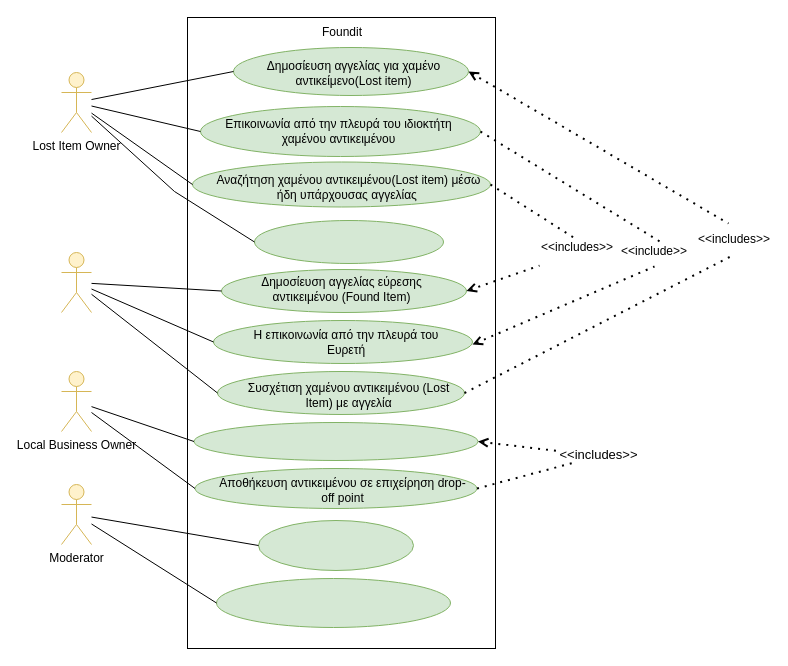
Image size: 788x666. Some labels were removed from this diagram. The shapes that lost their labels are listed below. From the top down, each one's box as (x1, y1, x2, y2) in pixels, then its label:
(254, 220, 444, 264): Αξιολόγηση Ευρετή (Finder)
(60, 252, 92, 312): Finder
(193, 422, 478, 460): Ορισμός καταστήματος (Local Business) ως drop-off point
(258, 520, 414, 570): Διαχείριση Αναφορών
(216, 578, 450, 628): Διαγραφή/Μπλοκάρισμα χρηστών
